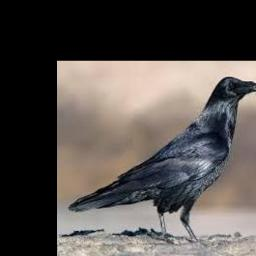Crow: (68, 75, 256, 241)
